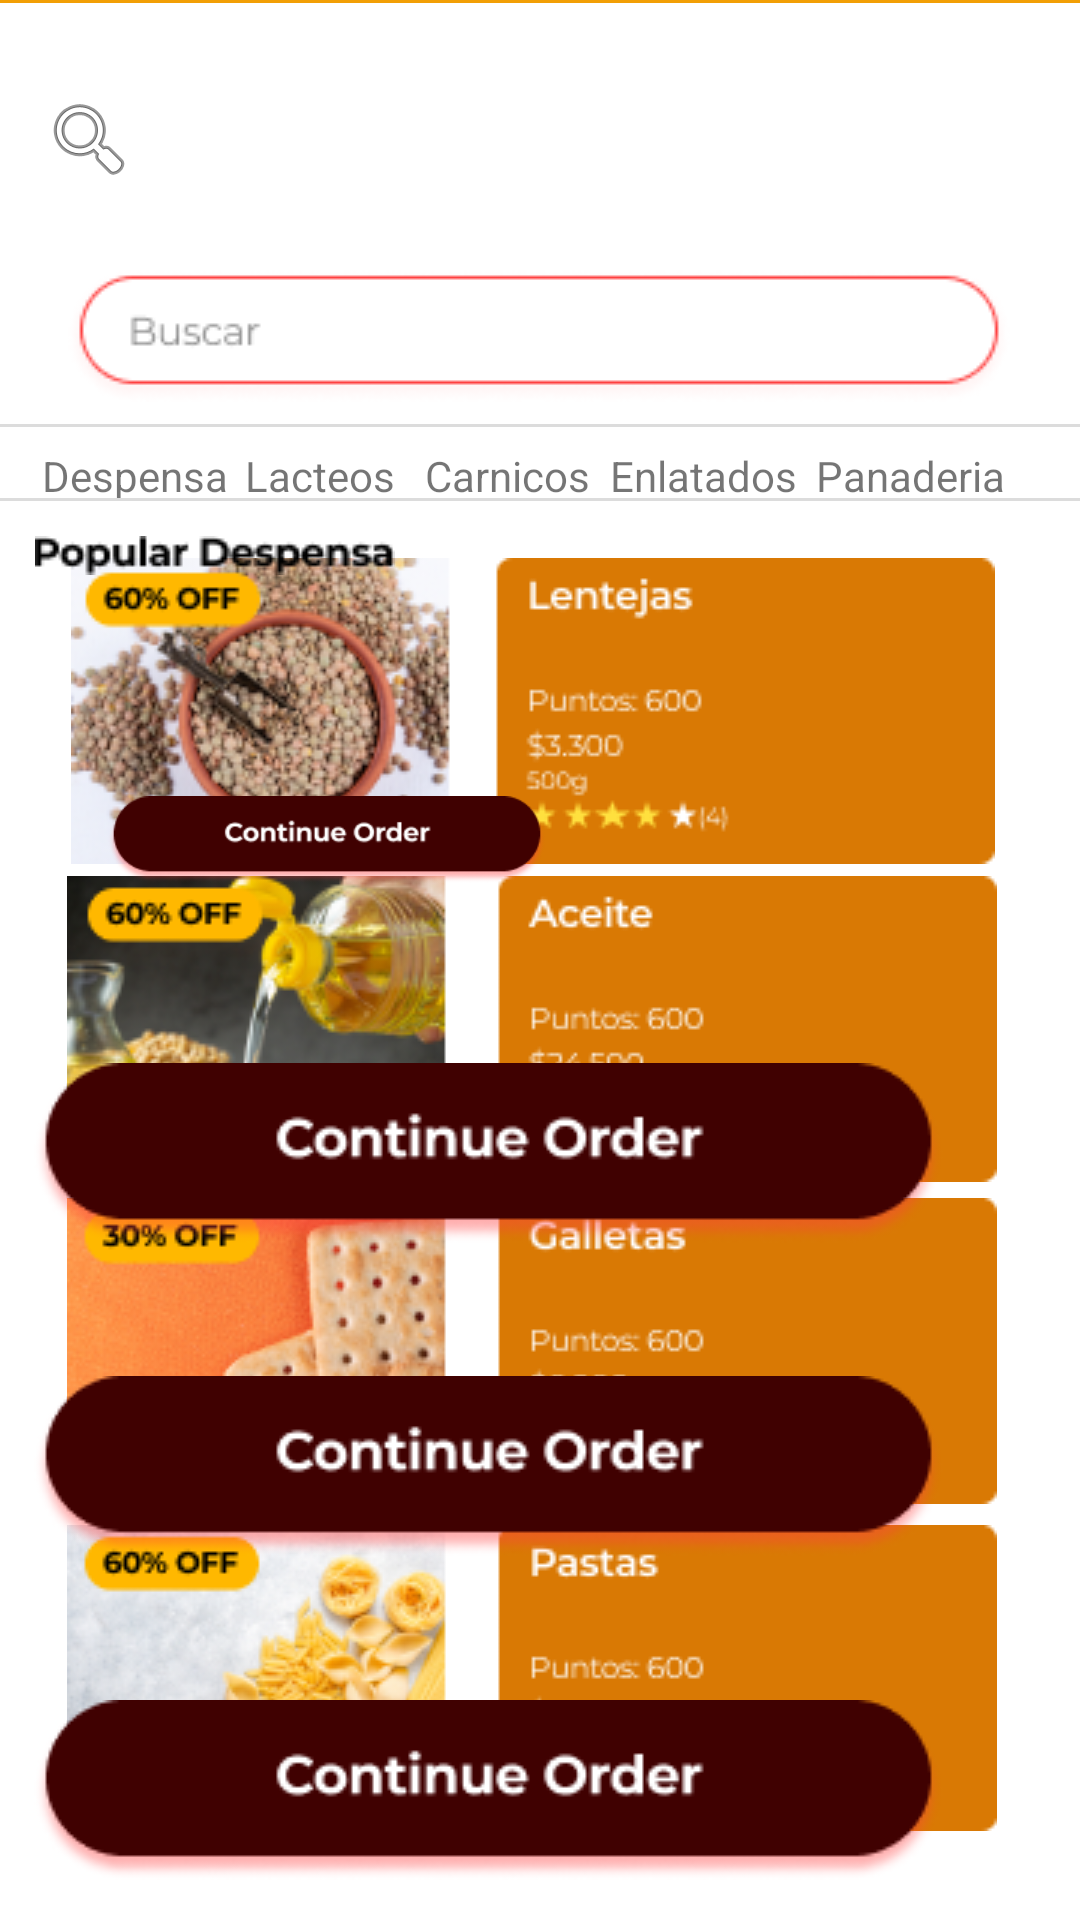

Icons on this 1080x1920 Android screen, each with the point to tap as (x,y):
search: (89,139)
